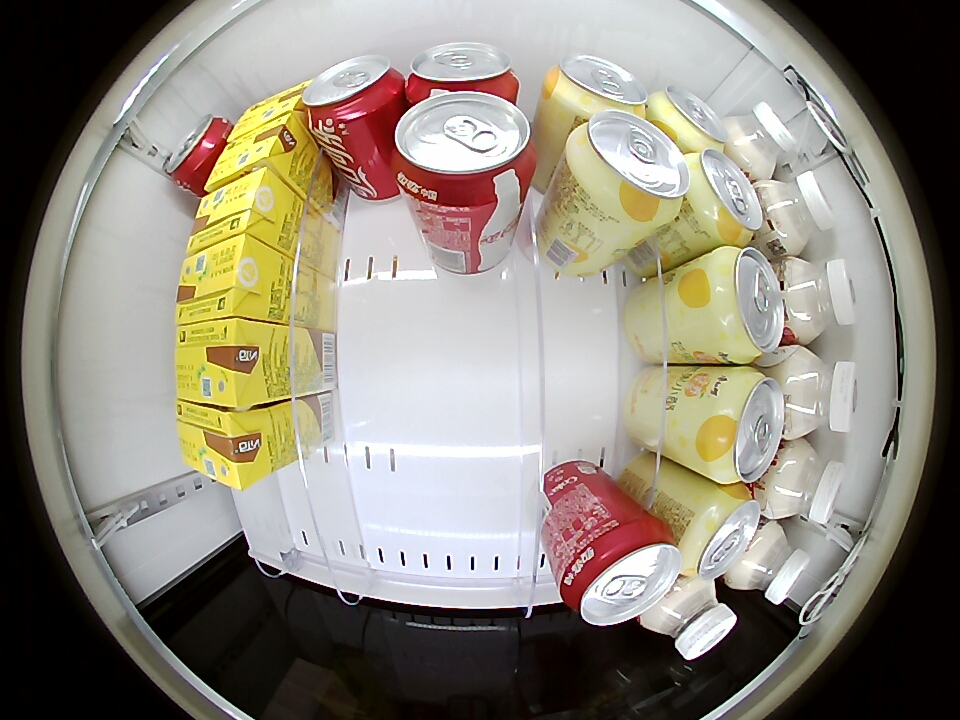kele: (392, 90, 536, 204), (559, 519, 681, 626), (303, 54, 402, 128), (405, 41, 519, 100), (166, 114, 229, 192)
mangguoxiaolao: (563, 111, 690, 227), (700, 368, 786, 485), (703, 245, 786, 363), (679, 487, 761, 580), (685, 149, 763, 245), (545, 54, 648, 119), (651, 85, 726, 153)
weitaningmeng: (176, 233, 272, 325), (187, 166, 287, 254), (176, 401, 270, 491), (175, 319, 270, 408), (206, 113, 306, 191), (231, 80, 311, 139)
weiweidounai: (641, 575, 737, 660), (778, 347, 859, 438), (779, 256, 858, 345), (763, 440, 845, 525), (730, 521, 810, 606), (759, 171, 836, 255), (725, 101, 798, 178)
